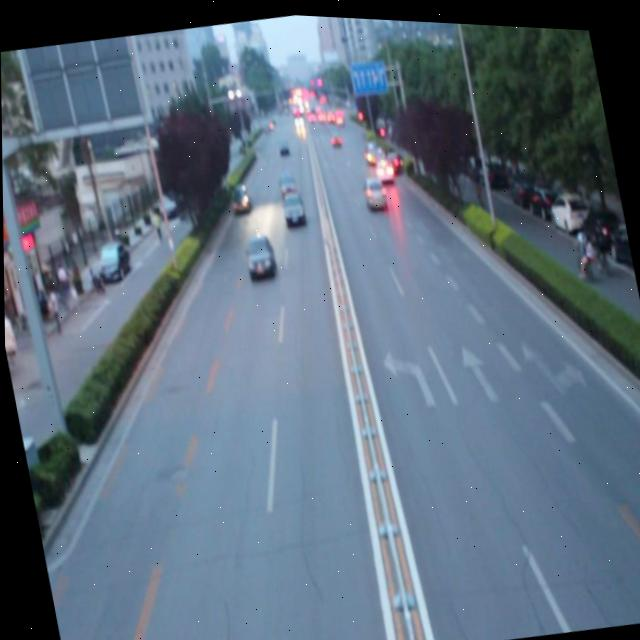car: (238, 226, 277, 279), (279, 185, 306, 227), (358, 168, 387, 207)
